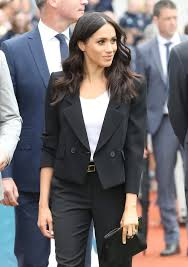F_W_suit jacket: (39, 69, 147, 189)
F_belt: (71, 161, 107, 179)
